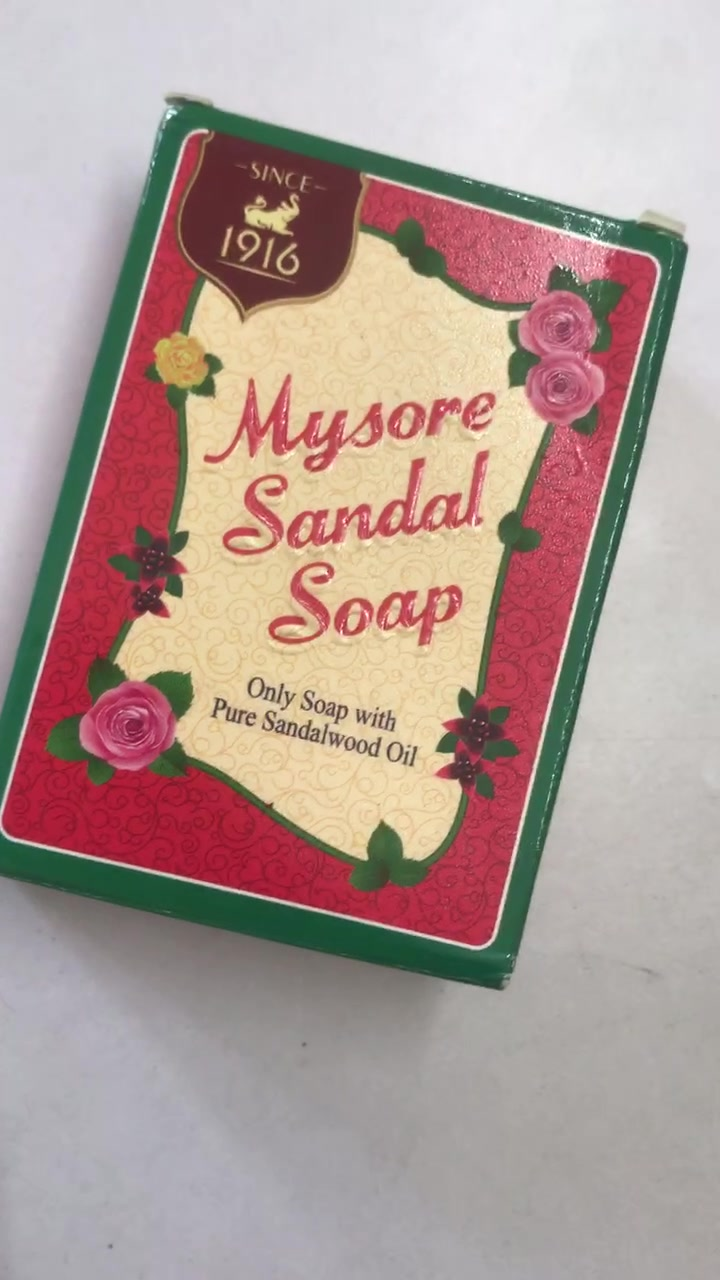mysore sandal soap: (8, 102, 676, 992)
